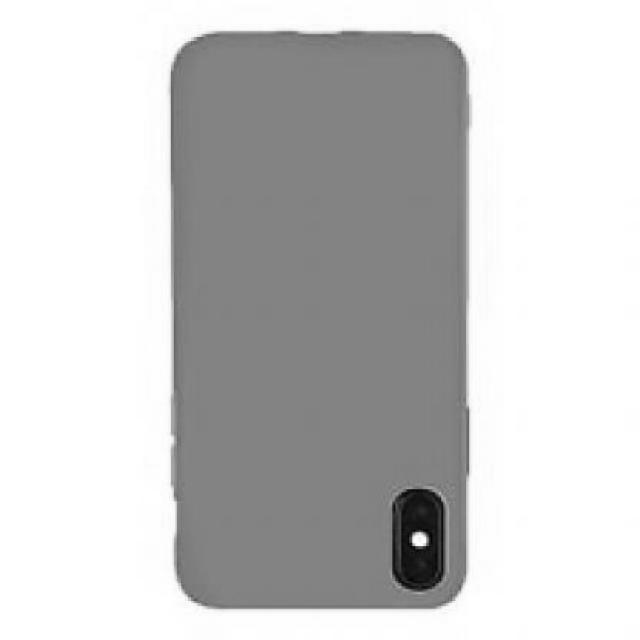fake: (170, 40, 466, 609)
